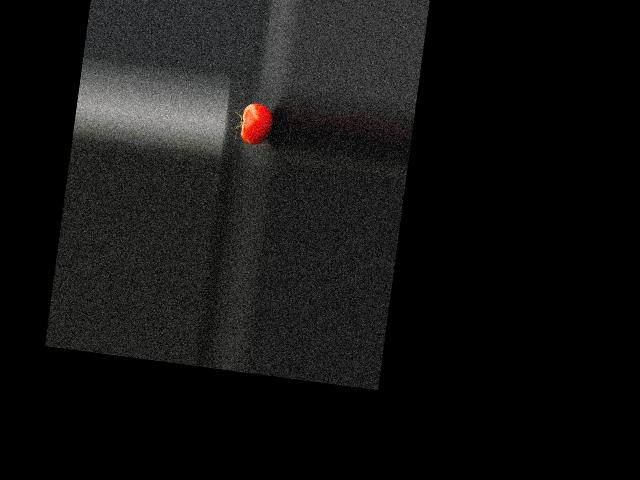tomato: (239, 101, 275, 146)
